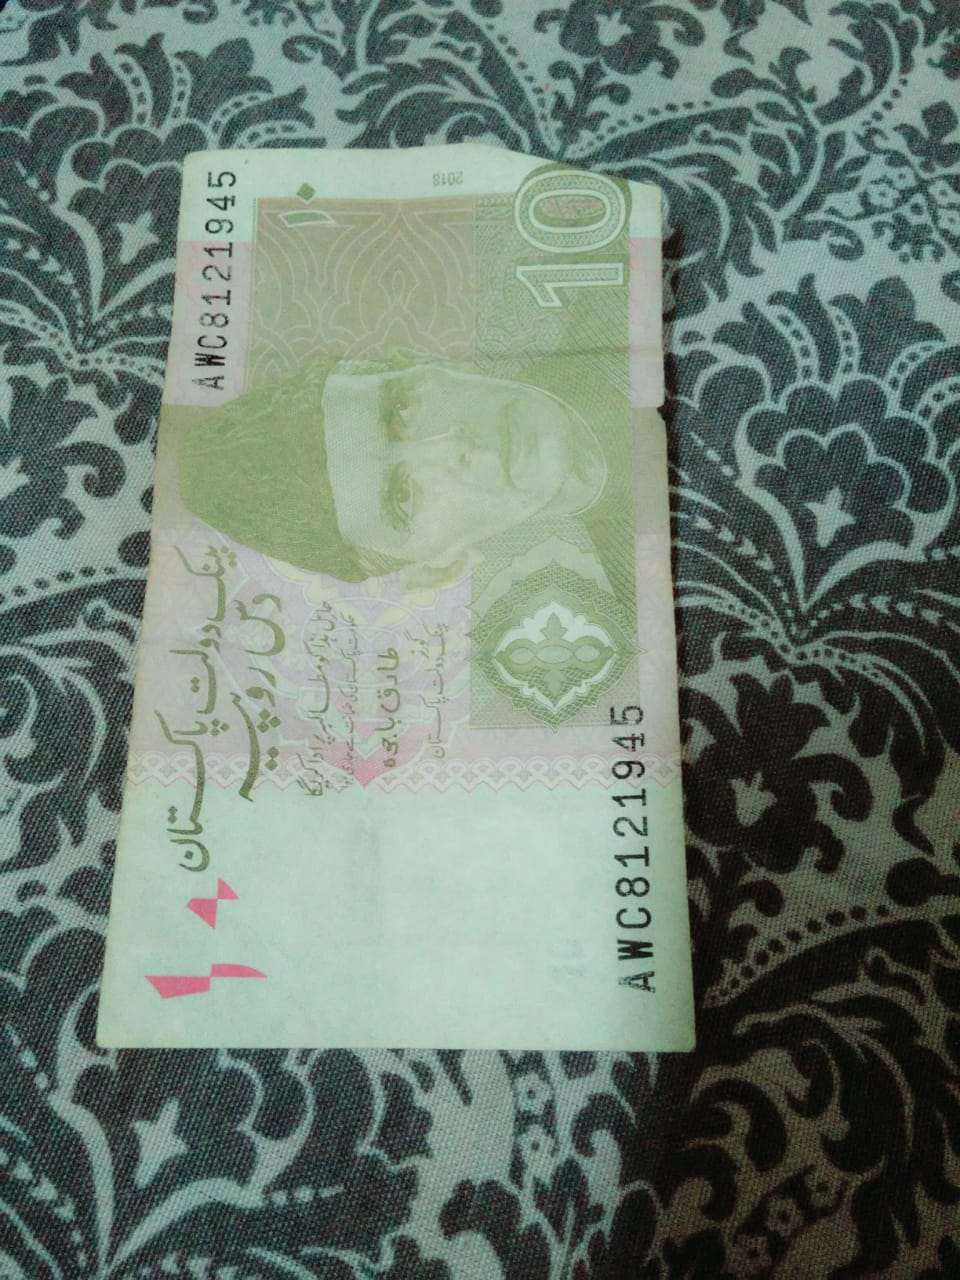10 rupee: (63, 95, 741, 1084)
